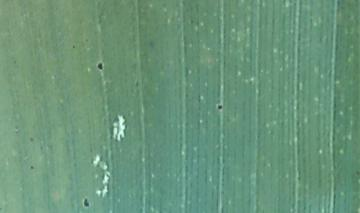tarspot: (95, 57, 106, 72), (81, 195, 91, 208), (215, 102, 223, 112), (27, 164, 36, 171)
